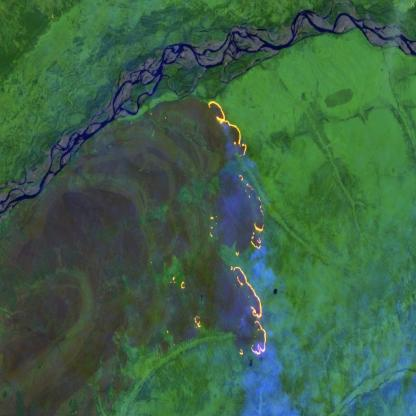fire: (207, 97, 274, 360)
